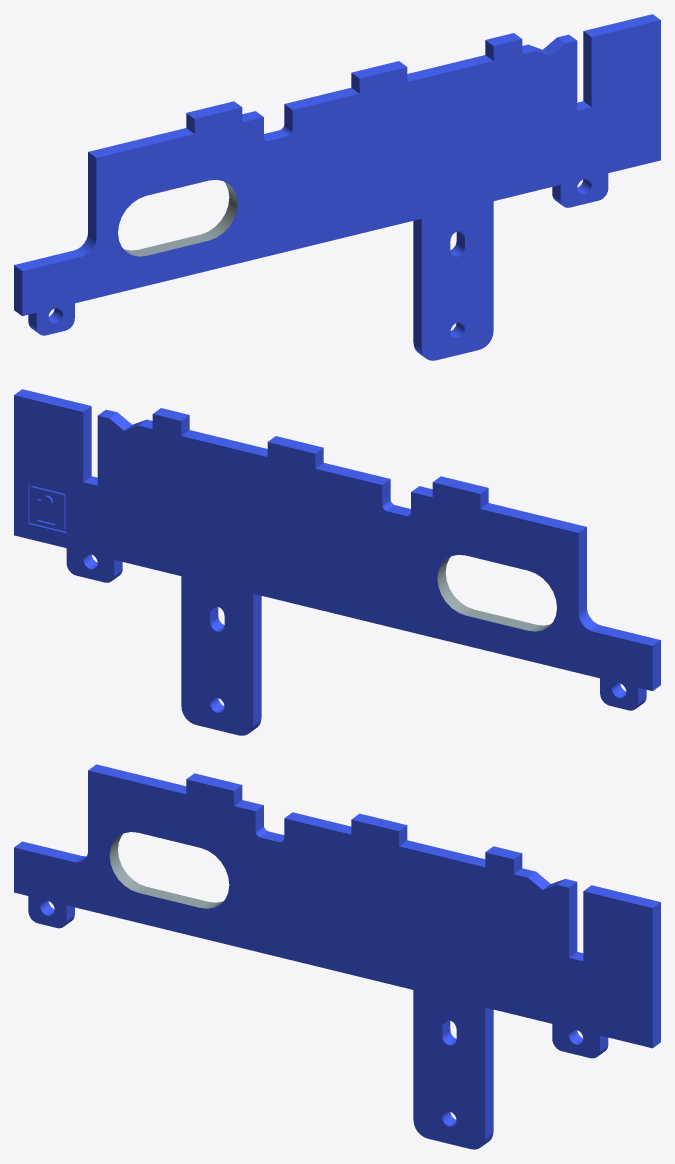
Rendered from Side_wall.obj.
The picture shows the model from 3 angles, top to bottom: view 1: azimuth 30°, elevation 25°; view 2: azimuth 150°, elevation 25°; view 3: azimuth 330°, elevation 25°; orthographic projection.
Visible parts, largest first — view 1: Body1; view 2: Body1; view 3: Body1.
Boxes of the visible parts, x1,y1,x2,y2 form: Body1: (14, 14, 660, 360); Body1: (14, 389, 660, 735); Body1: (14, 764, 660, 1149).
Size of the model in its own units: 13.35 by 6 by 0.3.
